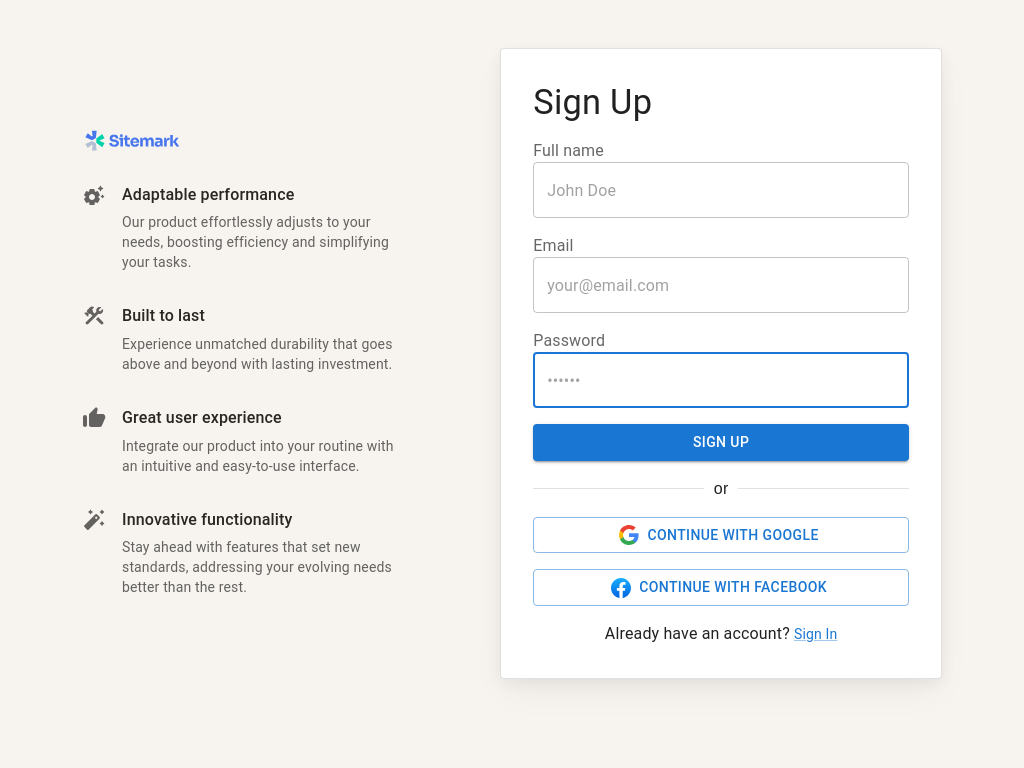
Test: authentication form integration › handles a registration network failure without an unhandled rejection
Type "Test Student" into the field labelled "Full name" at (721, 190), box [533, 162, 909, 218]
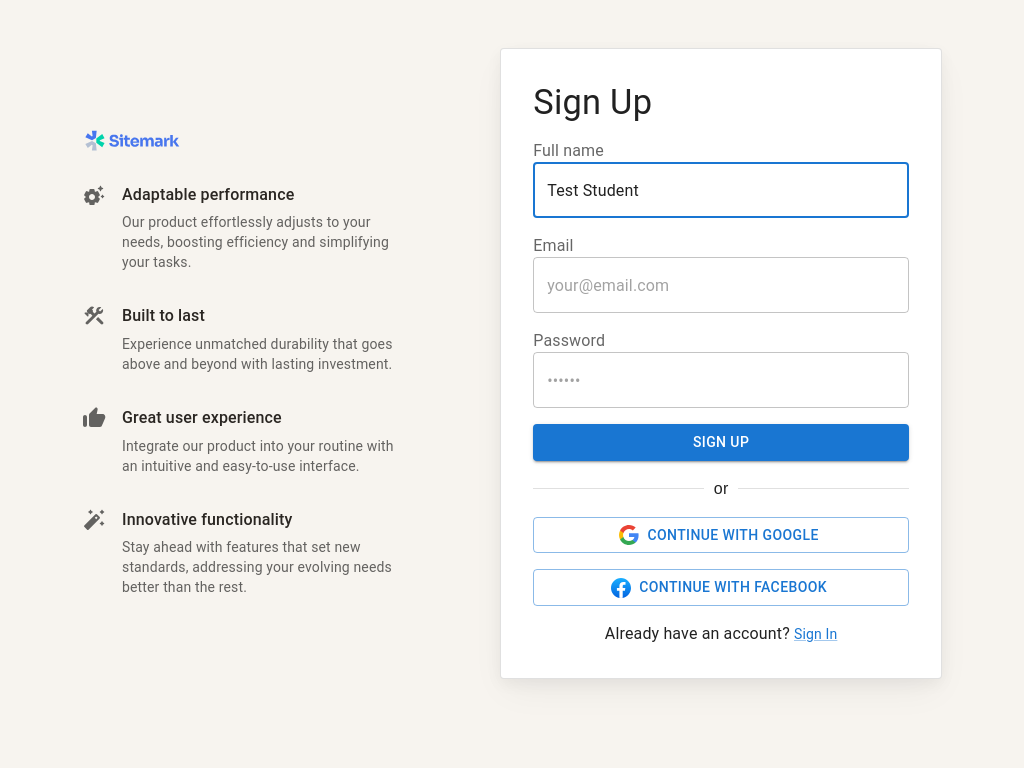
Type "student@example.com" into the field labelled "Email" at (721, 286), box [533, 258, 909, 314]
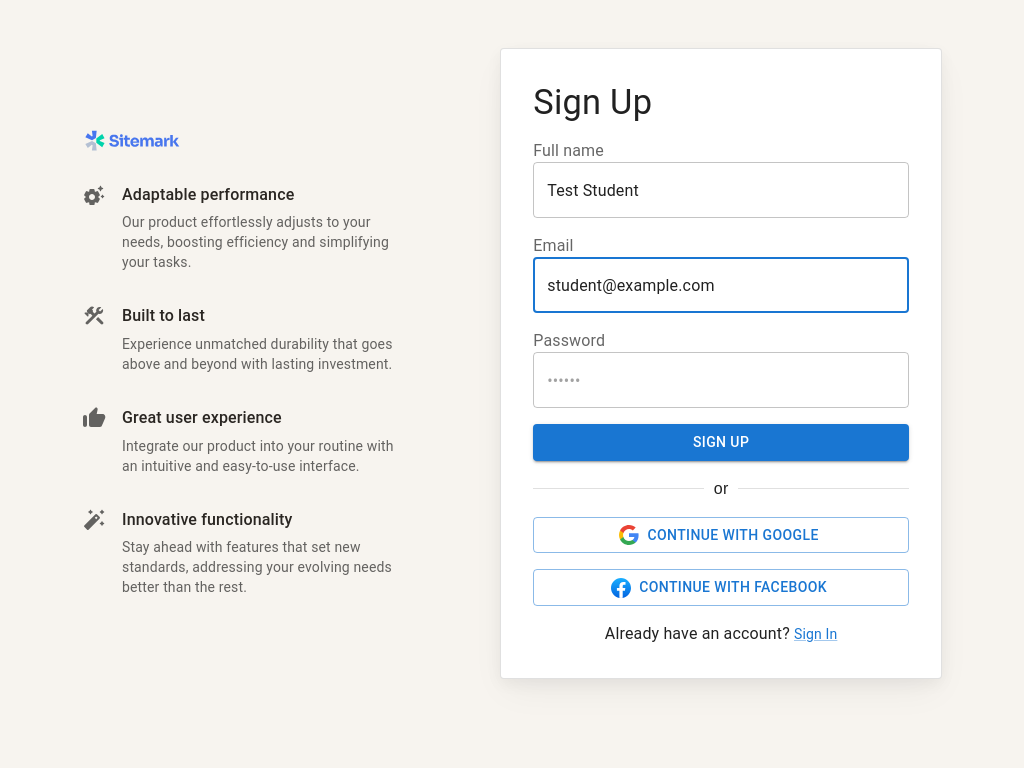
Type "StrongPassword1!" into the password field labelled "Password" at (721, 380), box [533, 352, 909, 408]
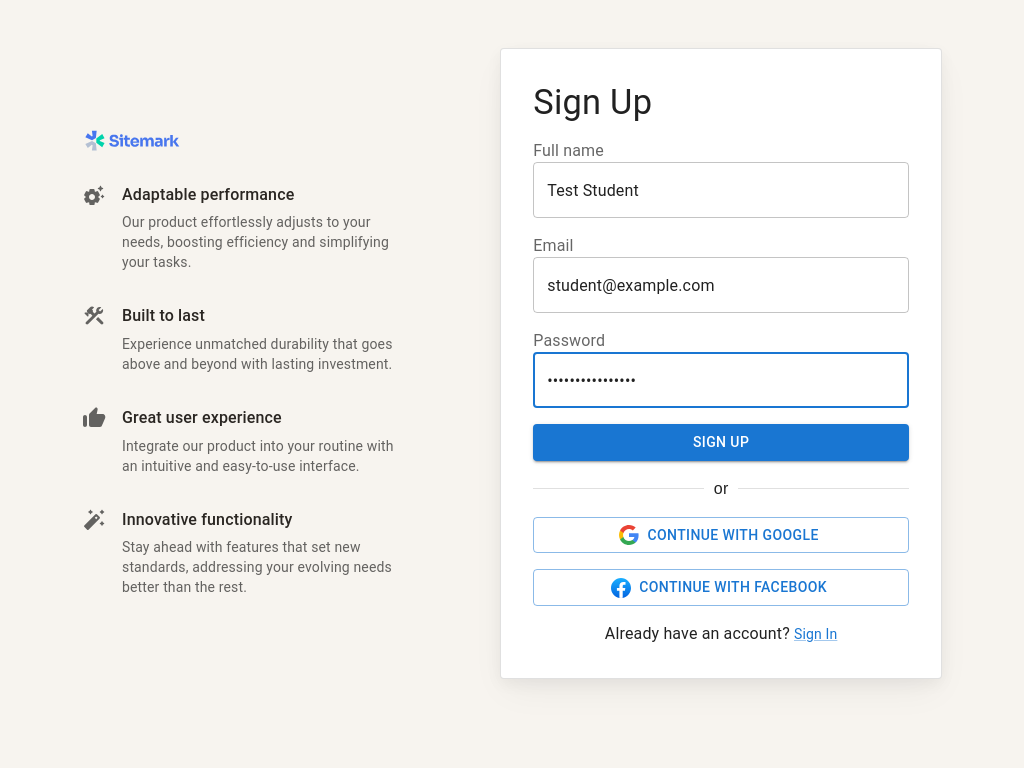
Click the button "Sign Up" at (721, 443), box [533, 424, 909, 461]
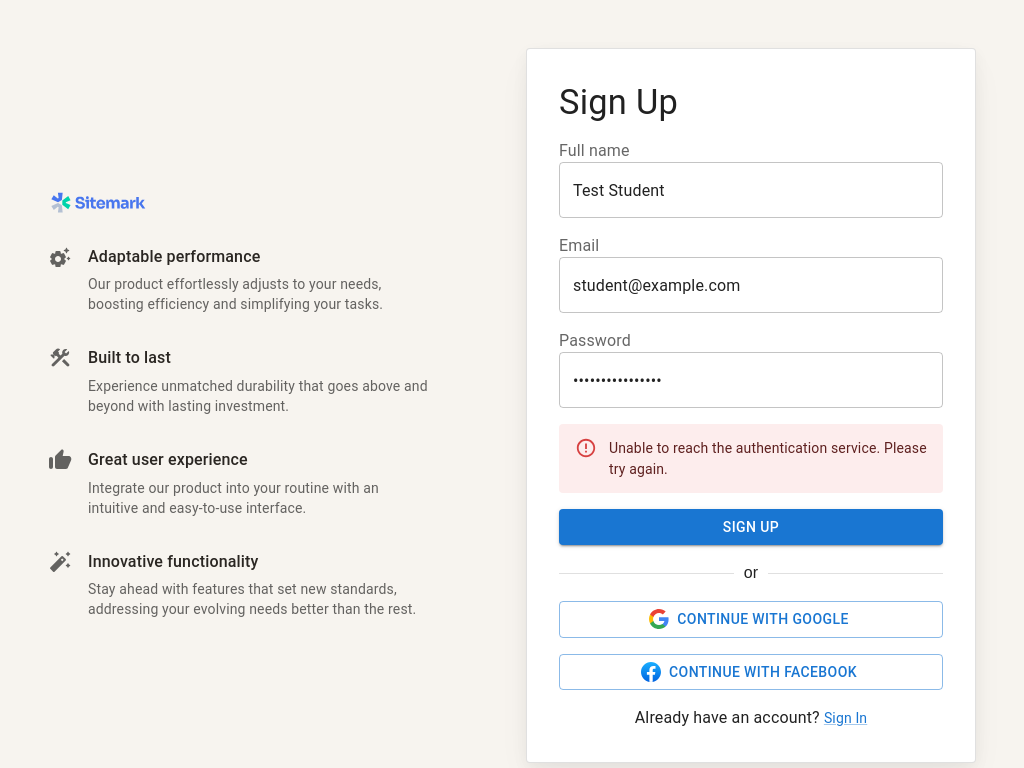
Expected: the text "Unable to reach the authentication service. Please try again." is shown, [609, 430, 927, 486]
